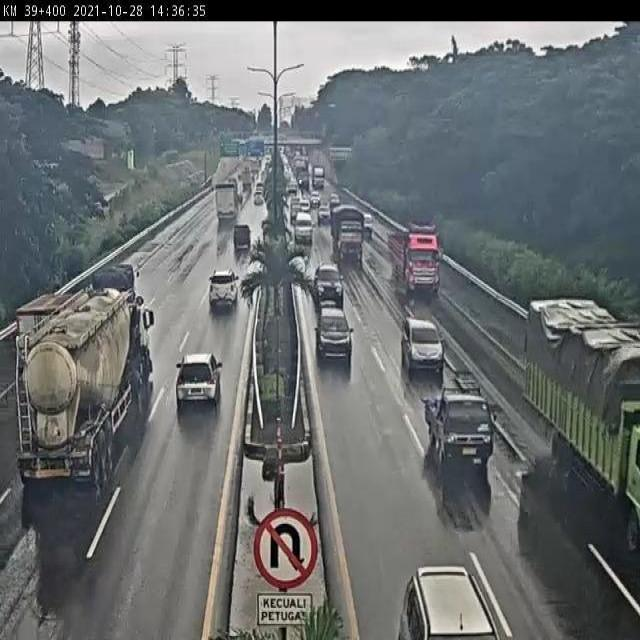truck-m-: (526, 302, 640, 526), (385, 227, 440, 292), (330, 204, 365, 261)
truck-xl-: (18, 289, 154, 482)
